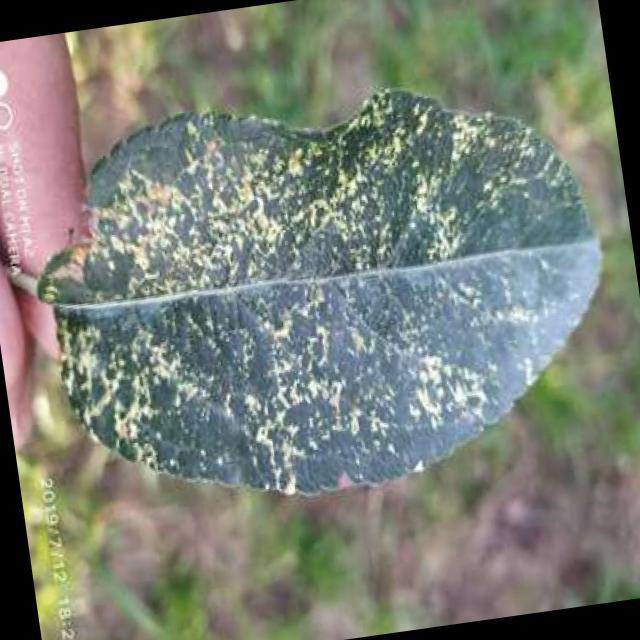Mosaic Virus: (65, 74, 619, 496)
